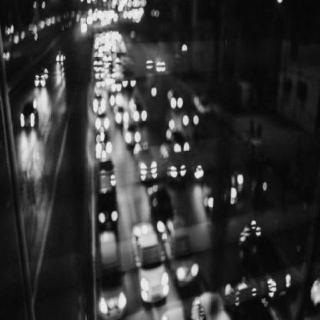other: (6, 21, 42, 48)
